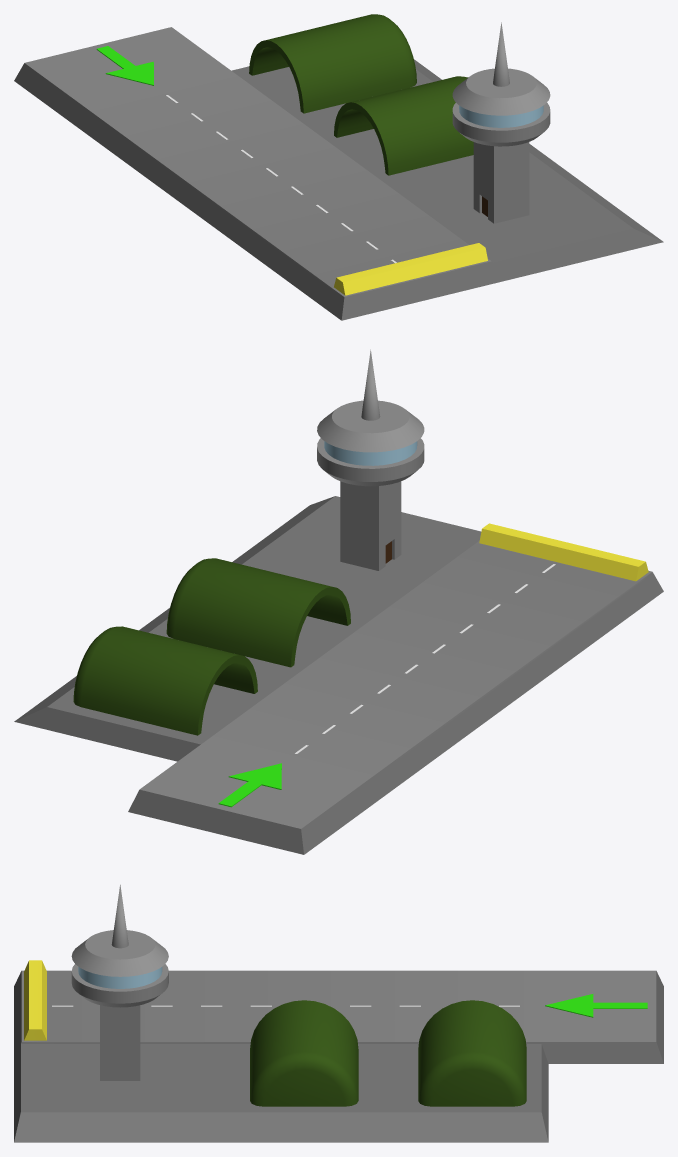
The model's file is Runway.fbx.
3 views of the same model, one above another, from view 1: azimuth 30°, elevation 25°; view 2: azimuth 150°, elevation 25°; view 3: azimuth 270°, elevation 25° (orthographic). The views are drawn at different scales.
Visible parts, largest first — view 1: Cube; view 2: Cube; view 3: Cube.
Part boxes in pixels (bbox=[...]): Cube: bbox=[14, 14, 663, 320]; Cube: bbox=[14, 349, 663, 854]; Cube: bbox=[14, 884, 663, 1142].
Size of the model in its own units: 7440 by 4606 by 13098.
